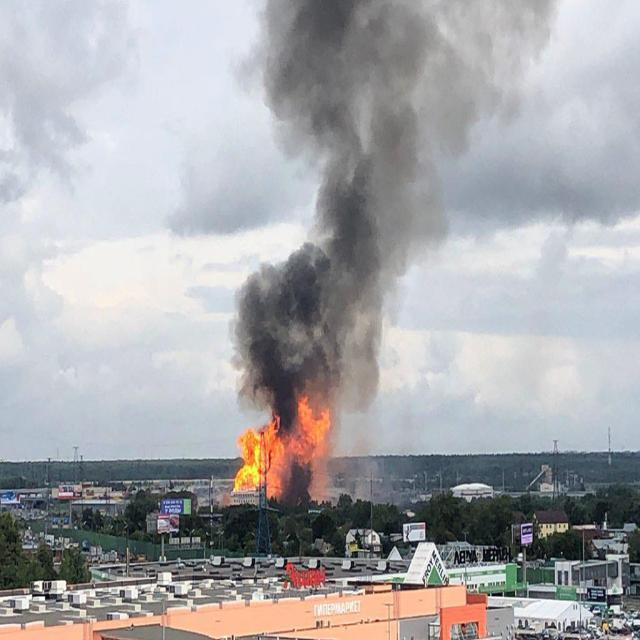Fire: (232, 395, 332, 498)
Smoke: (229, 0, 553, 442)
